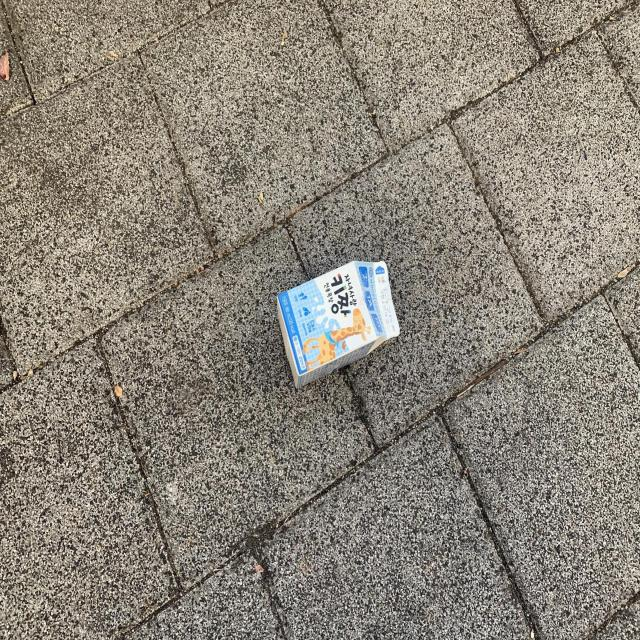paperpack: (278, 261, 399, 388)
